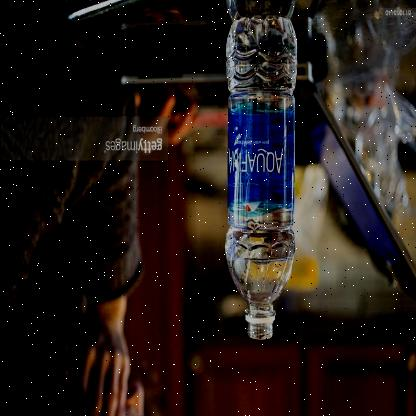Plastic Bottle: (224, 16, 296, 340)
